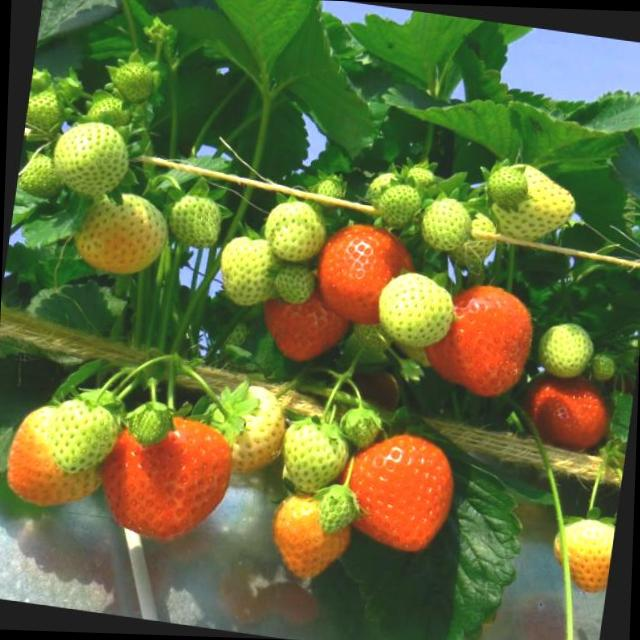ripe: (95, 402, 229, 546), (327, 423, 457, 553), (425, 276, 530, 402), (309, 217, 415, 331), (258, 273, 359, 362), (526, 370, 608, 450)
